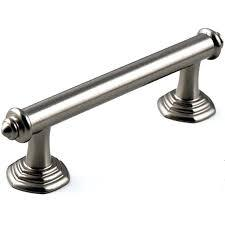handle: (6, 31, 221, 198)
